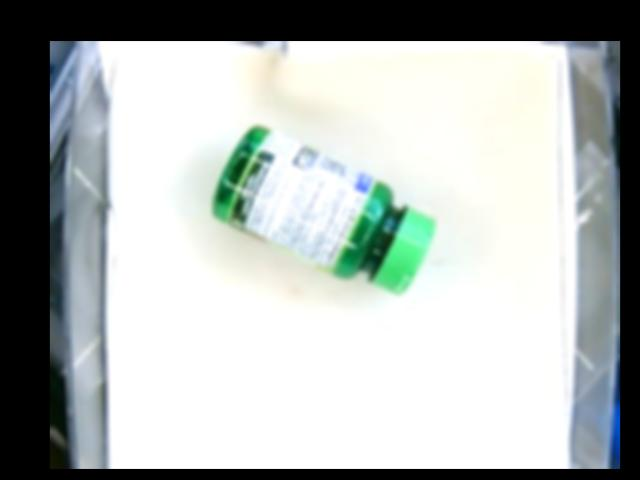Bottle: (210, 123, 433, 303)
